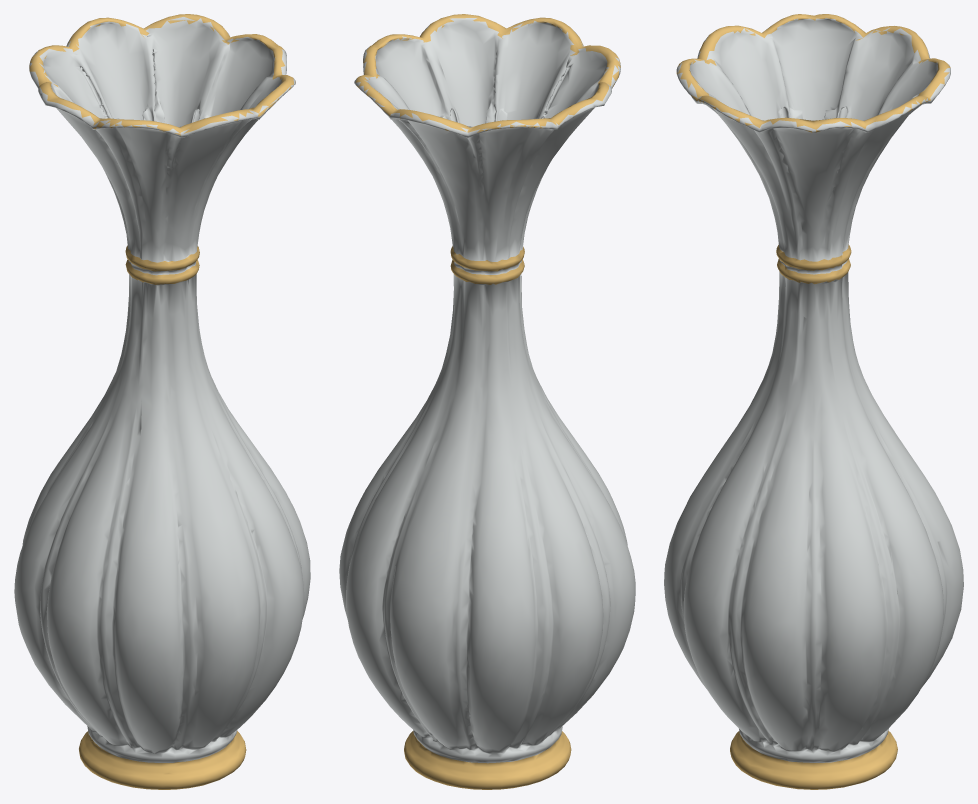
Rendered from fluted-carafe-qa-v2.glb.
3 views of the same model, side by side, from view 1: azimuth 30°, elevation 25°; view 2: azimuth 150°, elevation 25°; view 3: azimuth 270°, elevation 25° (orthographic).
Parts seen in each view (by area): view 1: vase_fluted_intact, vase_fluted; view 2: vase_fluted_intact, vase_fluted; view 3: vase_fluted_intact, vase_fluted.
Part boxes in pixels (left/top/right/bottom): vase_fluted_intact: left=14, top=14, right=310, bottom=789; vase_fluted: left=14, top=14, right=310, bottom=789; vase_fluted_intact: left=339, top=14, right=635, bottom=789; vase_fluted: left=339, top=14, right=635, bottom=789; vase_fluted_intact: left=664, top=14, right=963, bottom=789; vase_fluted: left=664, top=14, right=963, bottom=789.
Bounding box in the file's own units: 0.2643 × 0.69 × 0.271.
